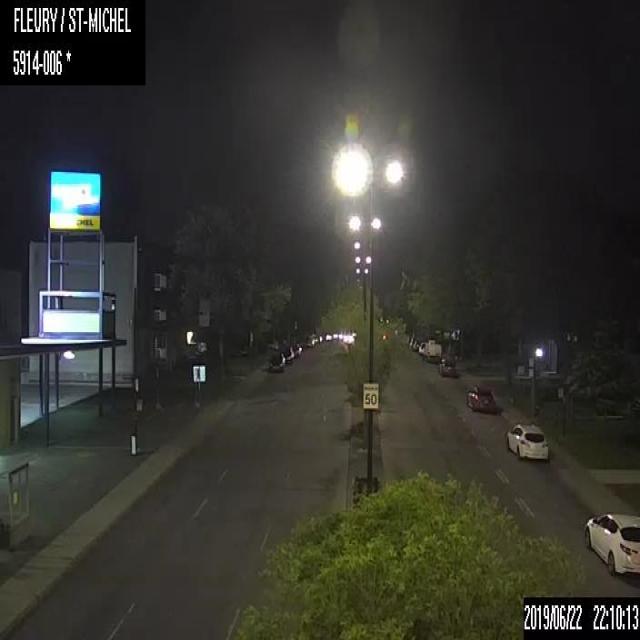vehicle: (582, 511, 639, 577), (504, 422, 548, 462), (465, 382, 496, 412), (419, 338, 441, 362), (436, 356, 457, 377), (266, 349, 285, 372), (278, 343, 294, 364)
